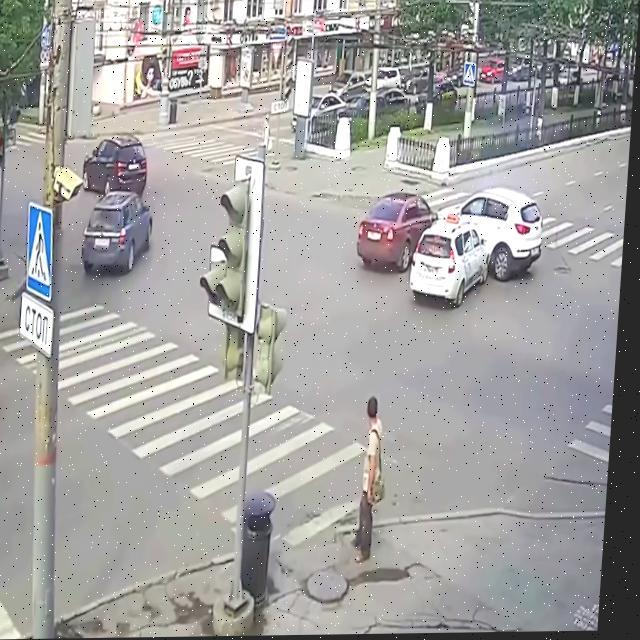multiple_accident: (328, 139, 592, 322)
normal: (72, 117, 169, 280)
